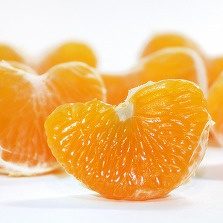mandarin: (46, 79, 208, 200), (1, 64, 106, 180), (100, 49, 206, 106)
